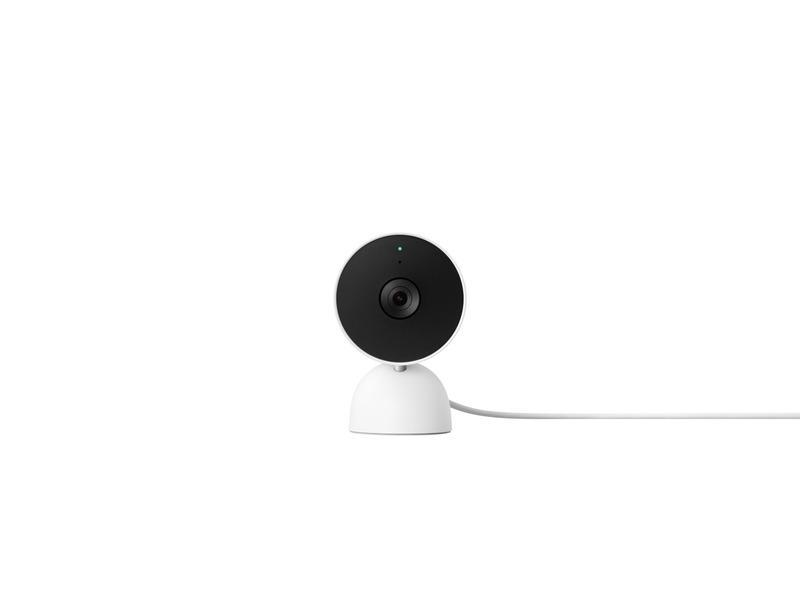nest: (328, 230, 469, 441)
